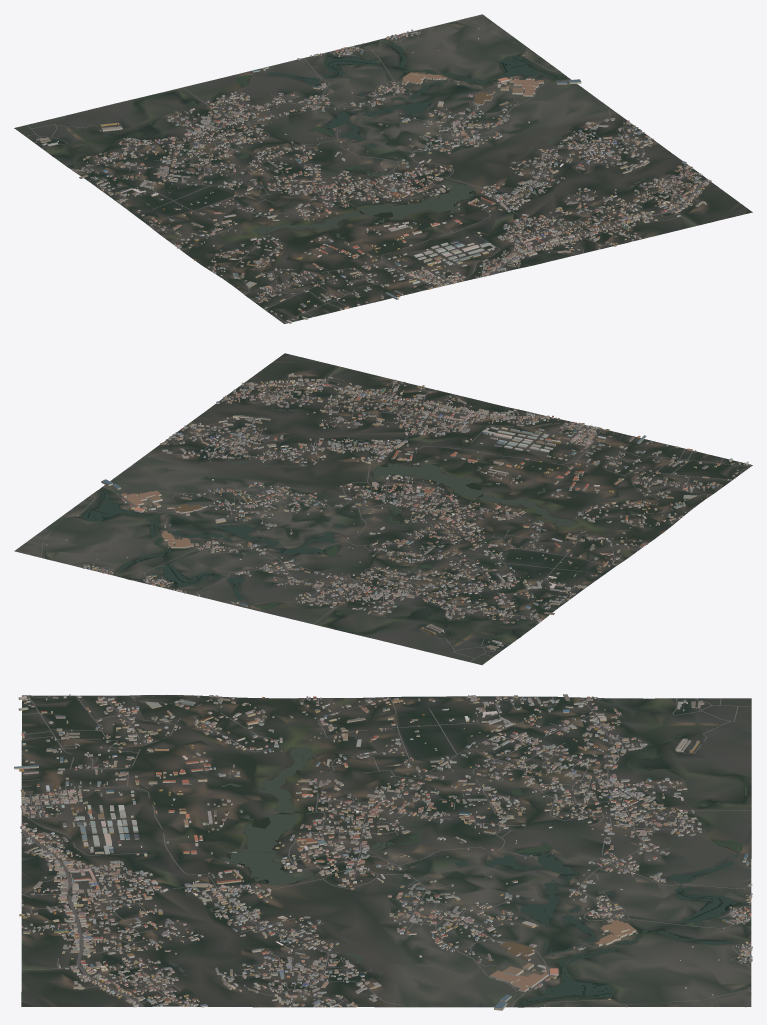
3 renders of one model, top to bottom at view 1: azimuth 30°, elevation 25°; view 2: azimuth 150°, elevation 25°; view 3: azimuth 270°, elevation 25°, orthographic. The views are drawn at different scales.
Visible parts, largest first — view 1: ground, buildings, water, roads; view 2: ground, buildings, water, roads; view 3: ground, buildings, water, roads.
Part boxes in pixels (x1,y1,x2,y2): ground: (14,14,752,323); buildings: (37,28,711,323); water: (56,27,645,249); roads: (26,20,707,322); ground: (14,353,752,664); buildings: (46,373,750,650); water: (49,408,576,637); roads: (15,366,750,661); ground: (21,695,751,1007); buildings: (14,694,752,1010); water: (169,701,747,1007); roads: (21,694,751,1007).
Bounding box in the file's own units: 2851 × 28.19 × 2839.
